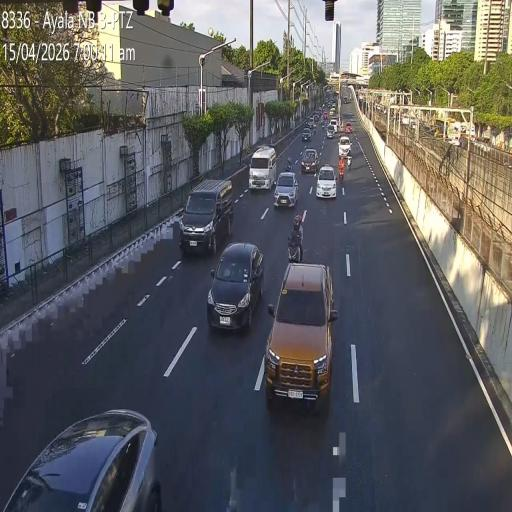Car: (2, 409, 160, 512), (264, 262, 336, 406), (206, 241, 262, 332), (180, 177, 234, 256), (248, 145, 276, 192), (274, 171, 298, 209), (316, 164, 337, 199), (300, 148, 319, 175), (338, 136, 352, 158), (302, 127, 312, 142), (329, 117, 338, 133), (326, 124, 336, 138), (346, 122, 352, 134)
Motor: (286, 216, 304, 268), (285, 156, 293, 176), (338, 160, 345, 182), (346, 151, 352, 170)
Not Accident: (265, 217, 334, 407), (276, 156, 298, 206), (338, 149, 352, 185), (325, 117, 338, 143)
